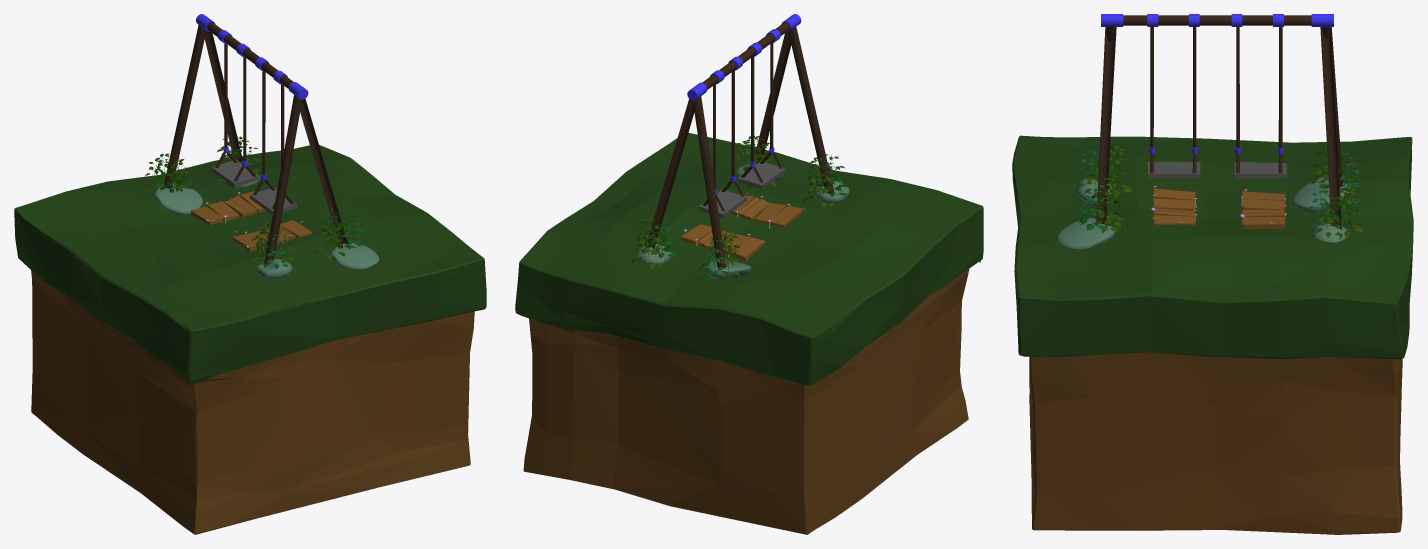
File: tile_swings.gltf
3 renders of one model, left to right at view 1: azimuth 30°, elevation 25°; view 2: azimuth 150°, elevation 25°; view 3: azimuth 270°, elevation 25°, orthographic. The views are drawn at different scales.
Visible parts, largest first — view 1: hill.004, Cylinder.005; view 2: hill.004, Cylinder.005; view 3: hill.004, Cylinder.005.
Boxes of the visible parts, bbox=[...] form: hill.004: bbox=[14, 145, 486, 534]; Cylinder.005: bbox=[145, 14, 379, 279]; hill.004: bbox=[515, 132, 983, 534]; Cylinder.005: bbox=[631, 14, 849, 284]; hill.004: bbox=[1012, 135, 1413, 534]; Cylinder.005: bbox=[1057, 14, 1363, 249].
Size of the model in its own units: 1.07 by 1.33 by 1.09.
